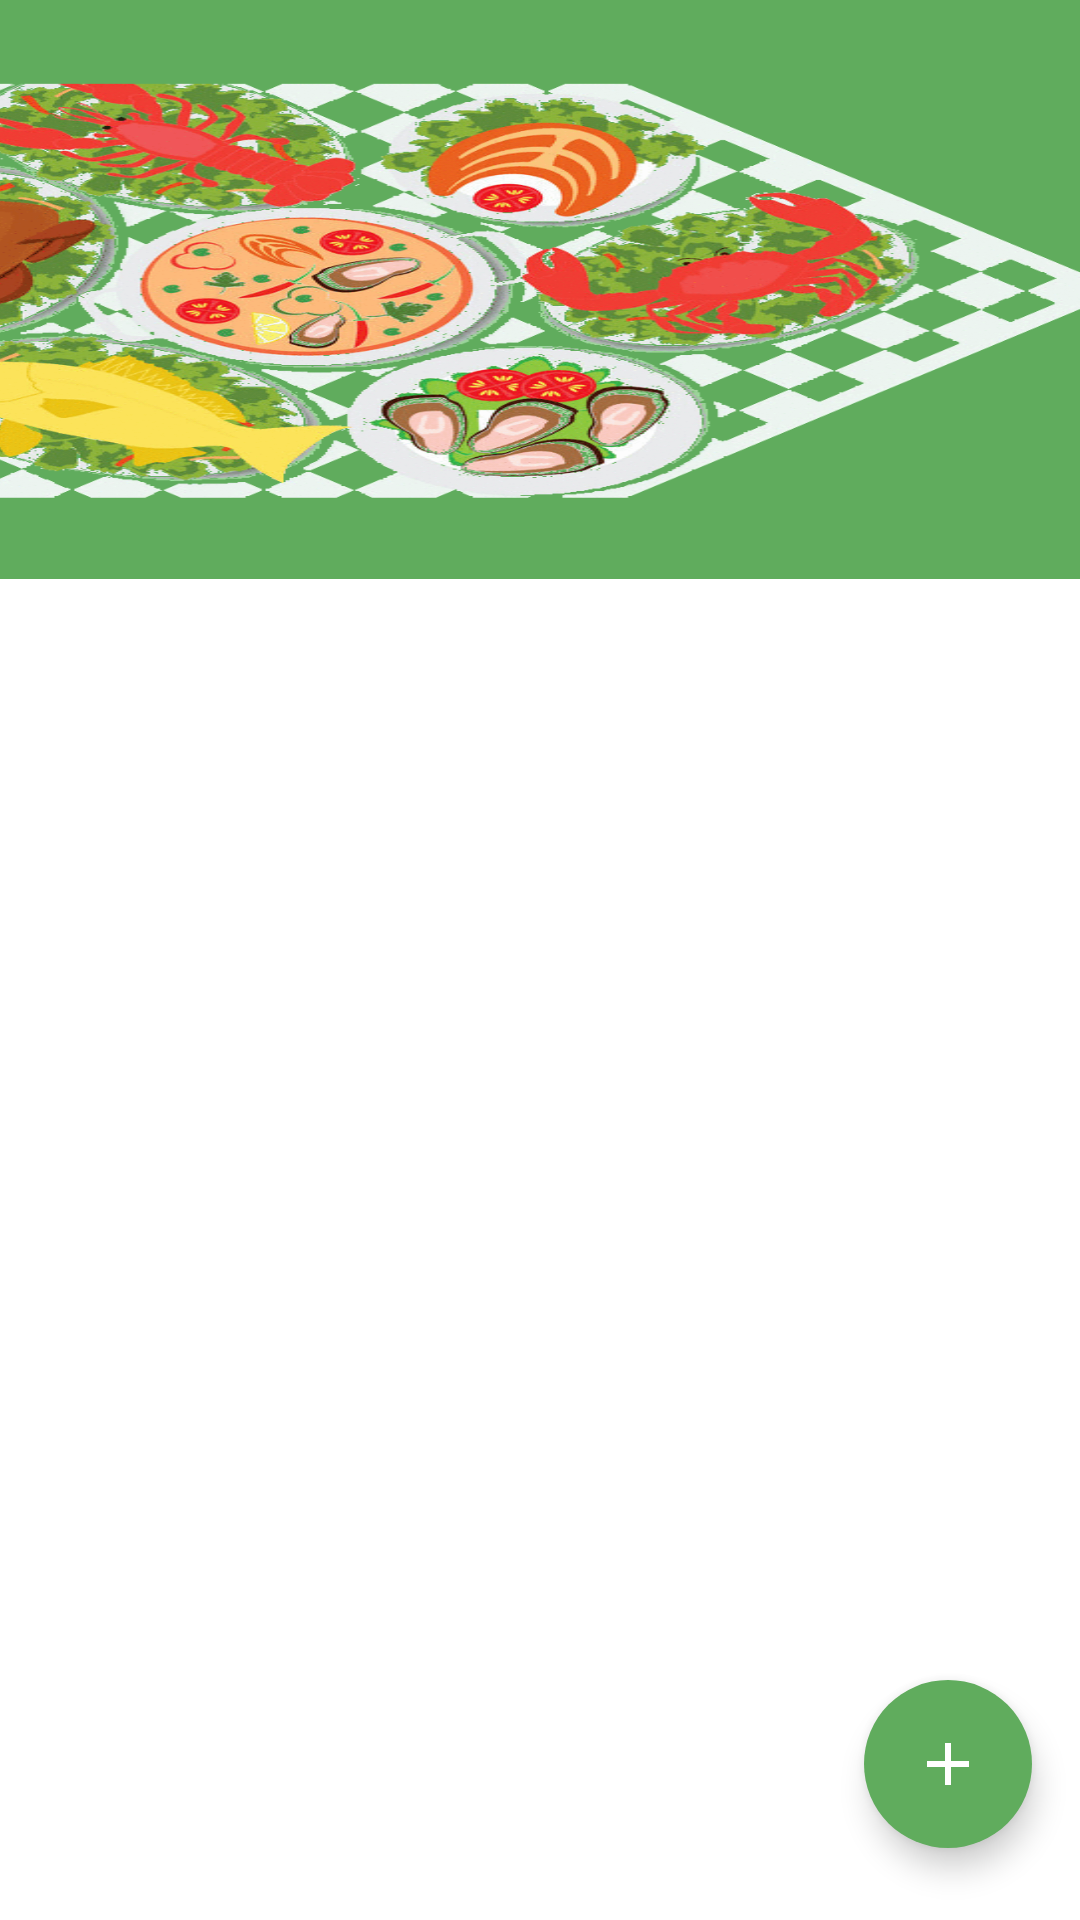

Named icons in this screenshot (1080x1920) and their centers, point (x, y):
add: point (948, 1764)
